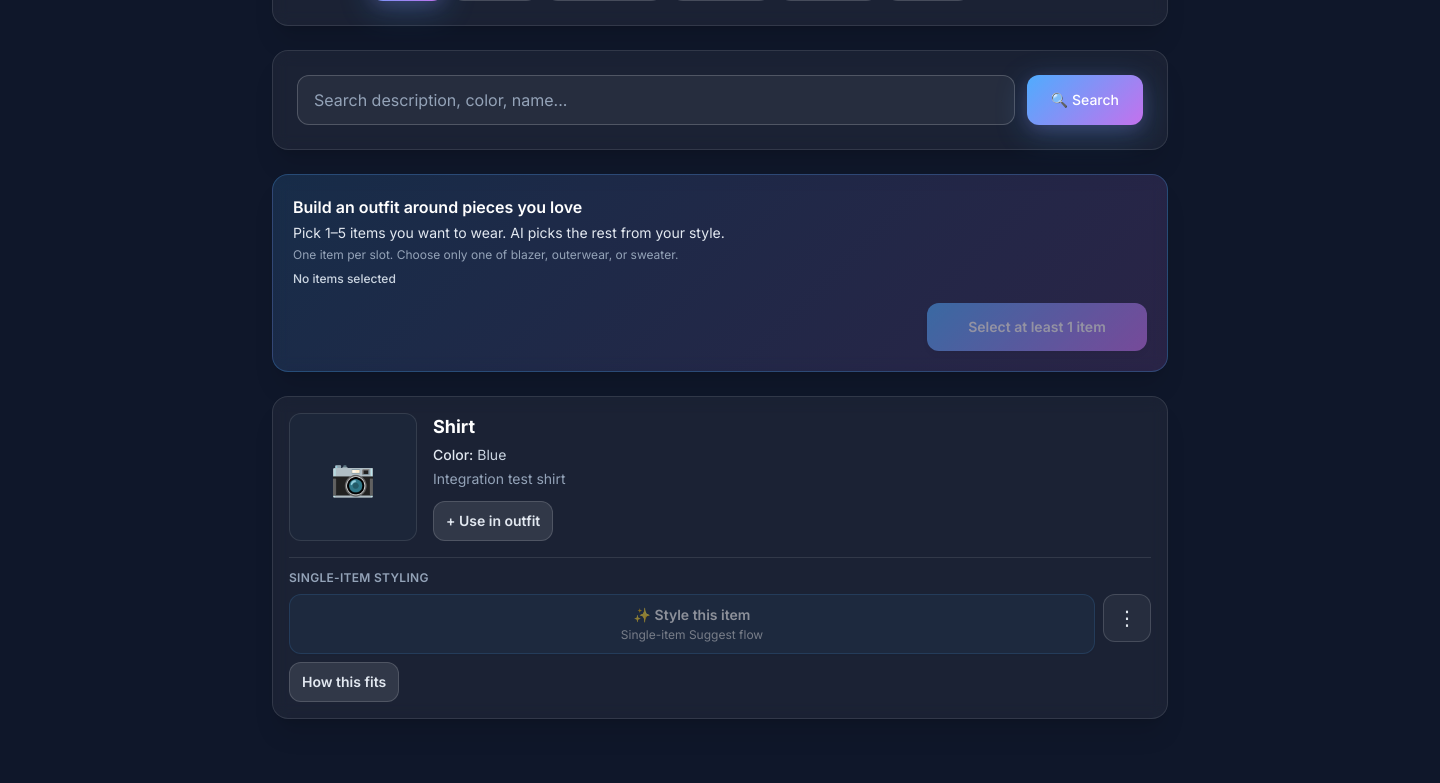
Test case: WardrobeFitEvaluate integration › shows pair counts with units
This screenshot has width=1440, height=783.
(page scrolled)
Check: the text "Integration test shirt" is shown, box [433,470,566,487]
Click the button with test id "wardrobe-how-this-fits-1" at (344, 682), box [289,662,399,702]
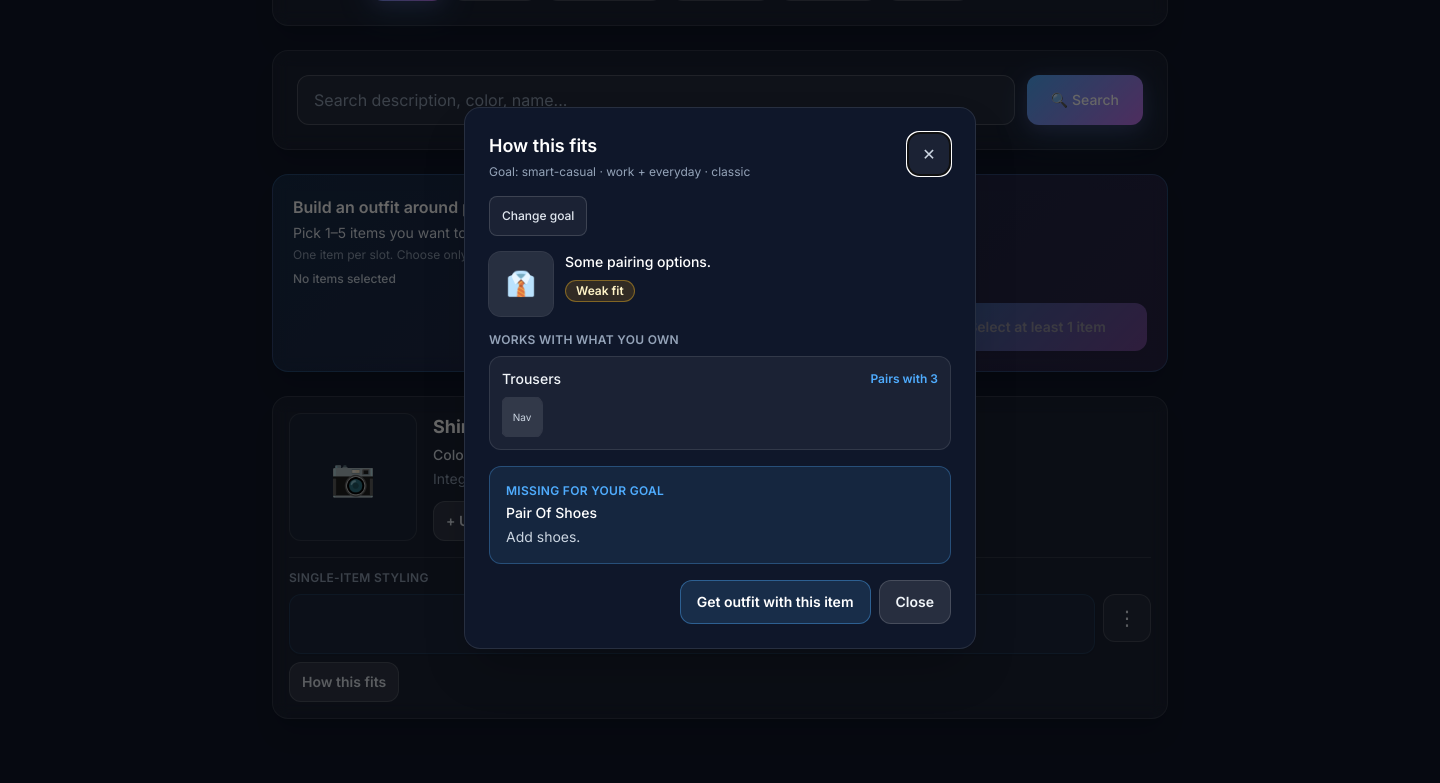
Check: the text with test id "wardrobe-fit-pair-count-trouser" reads "Pairs with 3", box [870,371,938,386]
